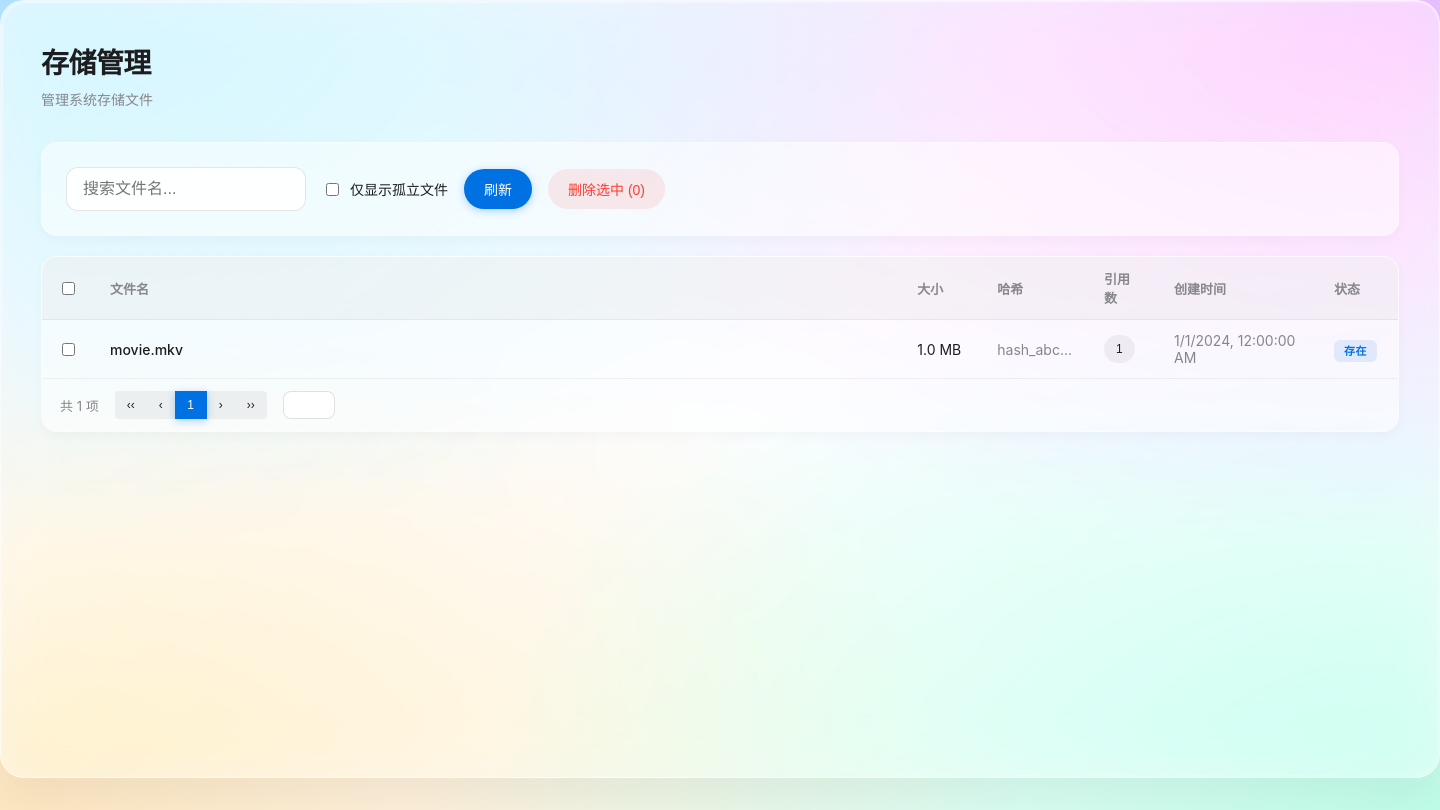
Test: StoragePage › selects and clears the whole page via the select-all checkbox
Expected: the text "movie.mkv" is shown, [94, 320, 901, 378]
Click the checkbox named "全选" at (68, 288), box [62, 282, 75, 294]
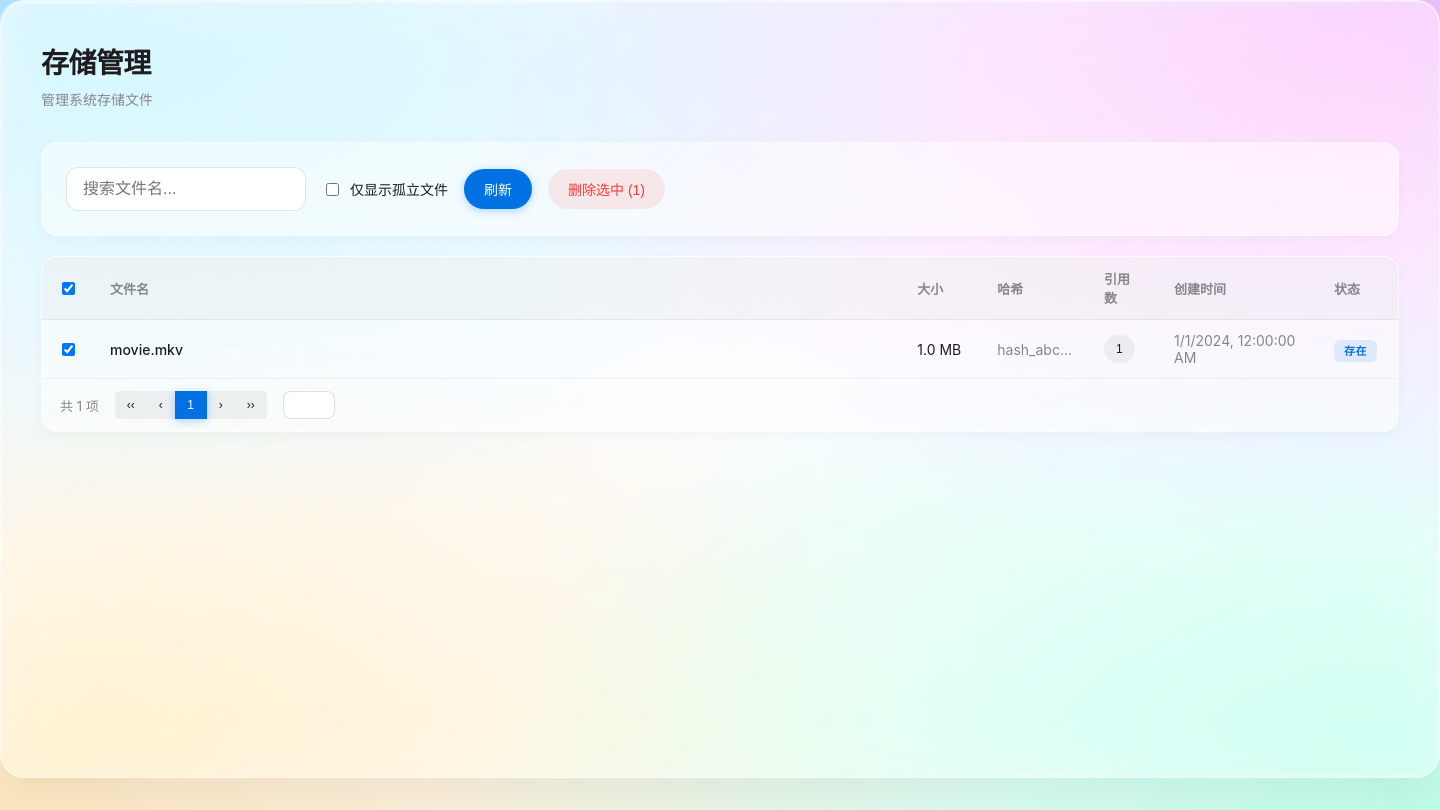
Now the button "删除选中 (1)" is enabled, box [548, 169, 665, 209]
Click the checkbox named "全选" at (68, 288), box [62, 282, 75, 294]
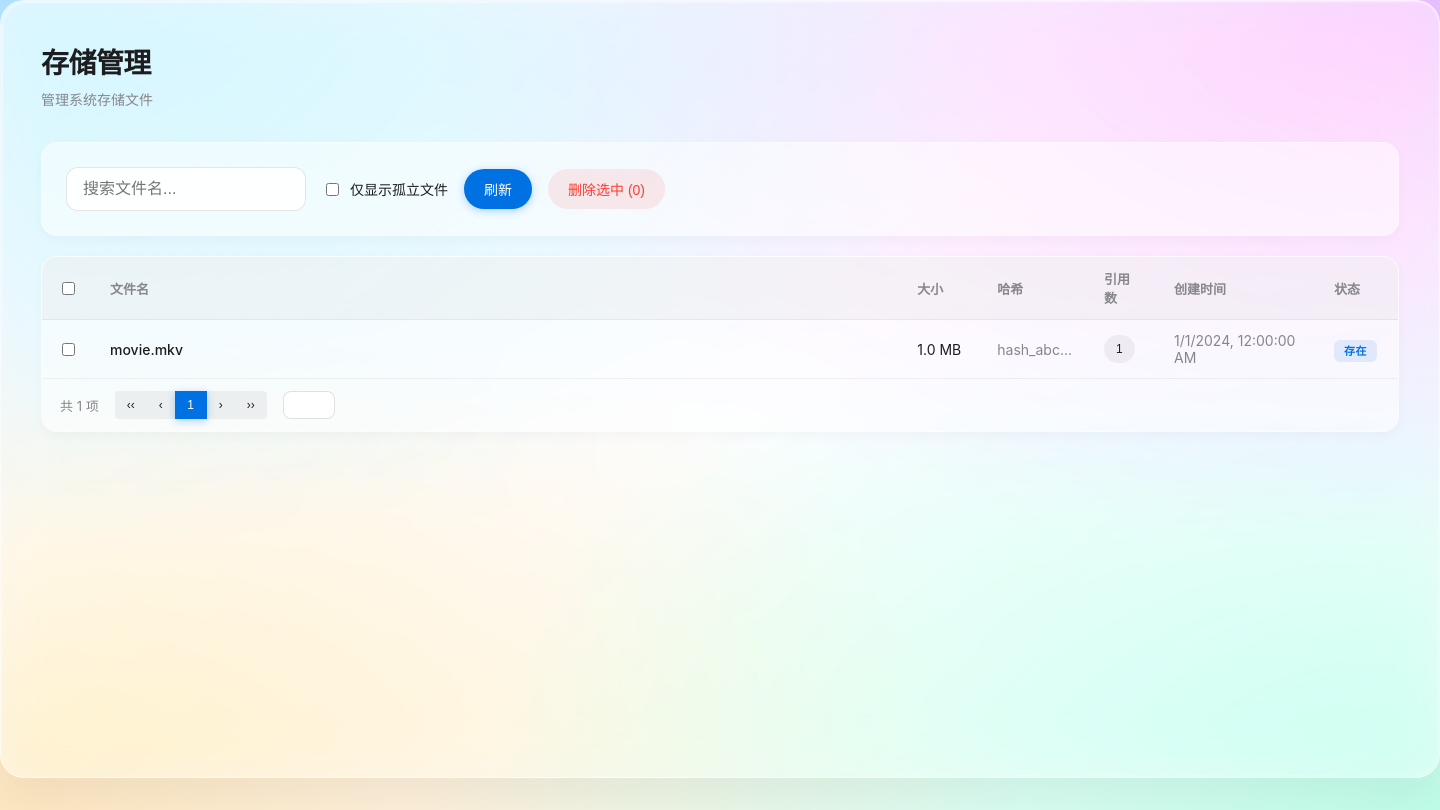
Now the button "删除选中 (0)" is disabled, box [548, 169, 665, 209]
